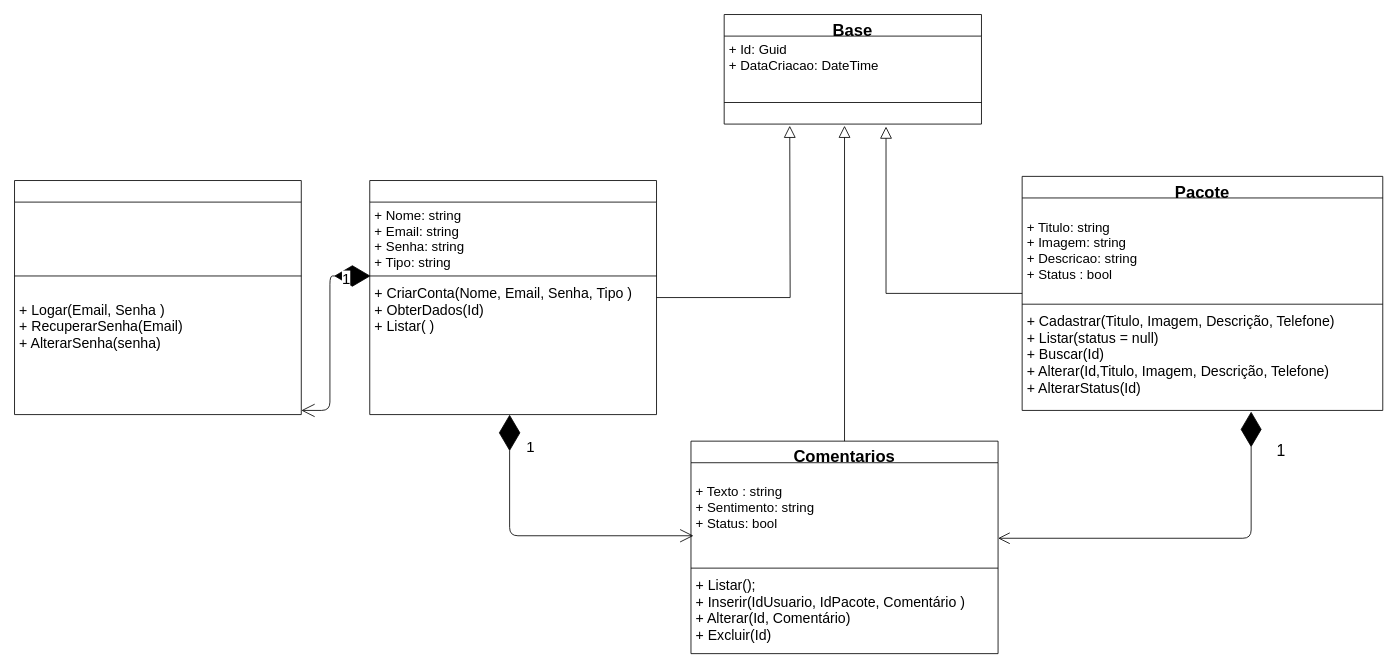
Image size: 1398x671. Some labels were removed from this diagram. The box of each missing label's shape, as (x1, y1, x2, y2) in pixels:
Autenticacao: (14, 180, 301, 415)
Usuario: (369, 180, 657, 415)
